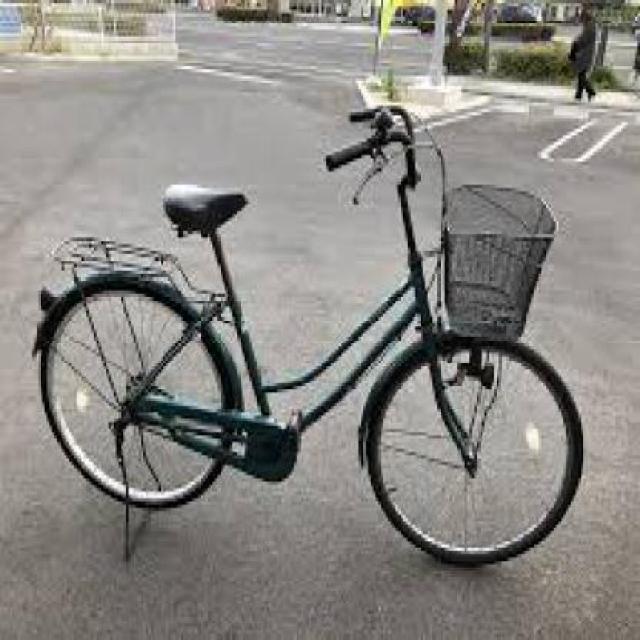bicycle: (1, 1, 610, 590)
